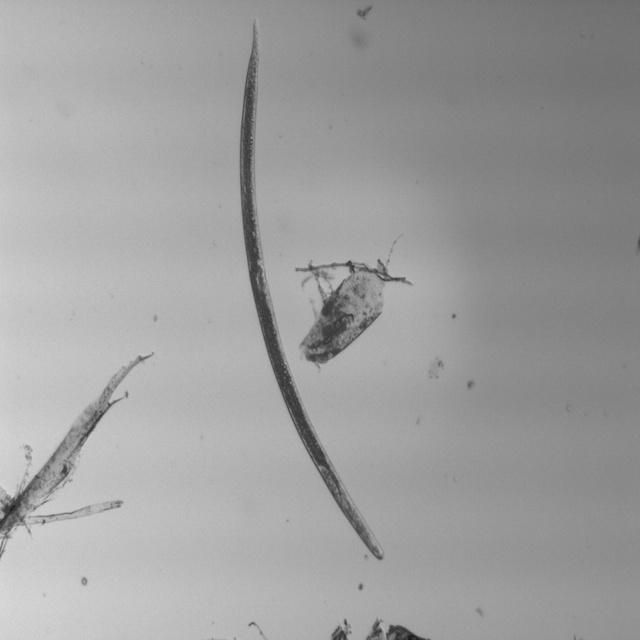Radopholus: (227, 14, 389, 569)
